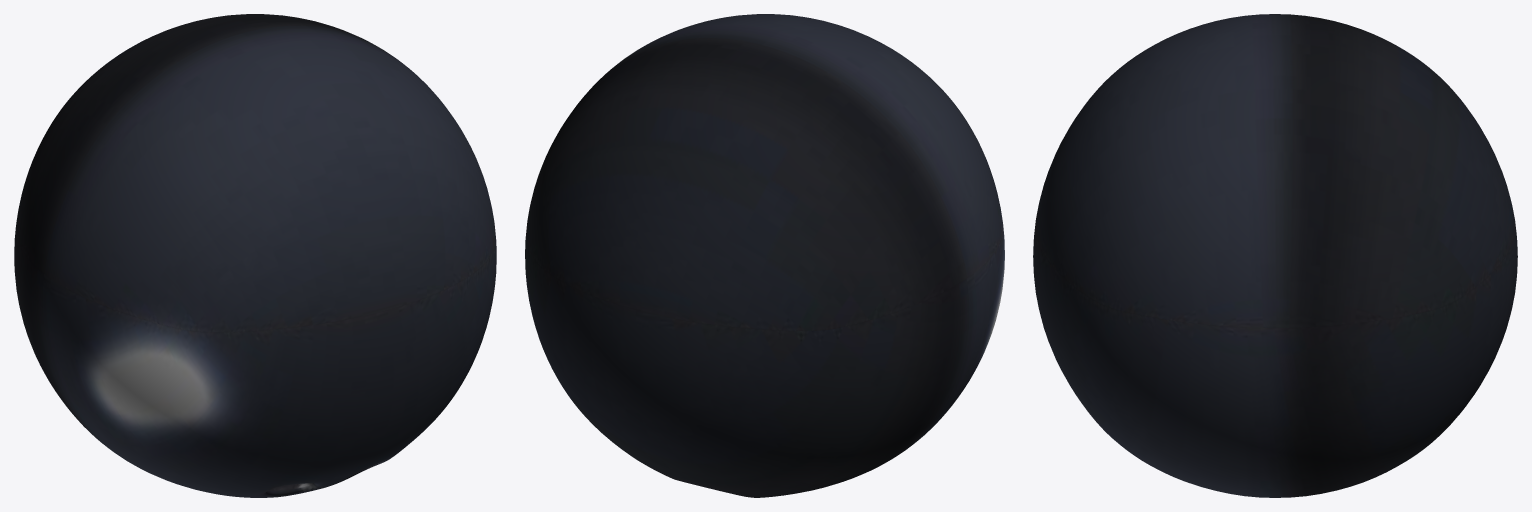
File: Ball.obj
The picture shows the model from 3 angles, left to right: view 1: azimuth 30°, elevation 25°; view 2: azimuth 150°, elevation 25°; view 3: azimuth 270°, elevation 25°; orthographic projection.
Visible parts, largest first — view 1: objBox02; view 2: objBox02; view 3: objBox02.
Part boxes in pixels (x1,y1,x2,y2): objBox02: (14,14,496,497); objBox02: (525,14,1004,497); objBox02: (1033,14,1517,497).
Size of the model in its own units: 21.98 by 21.93 by 21.98.
1 material, 1 textured.
